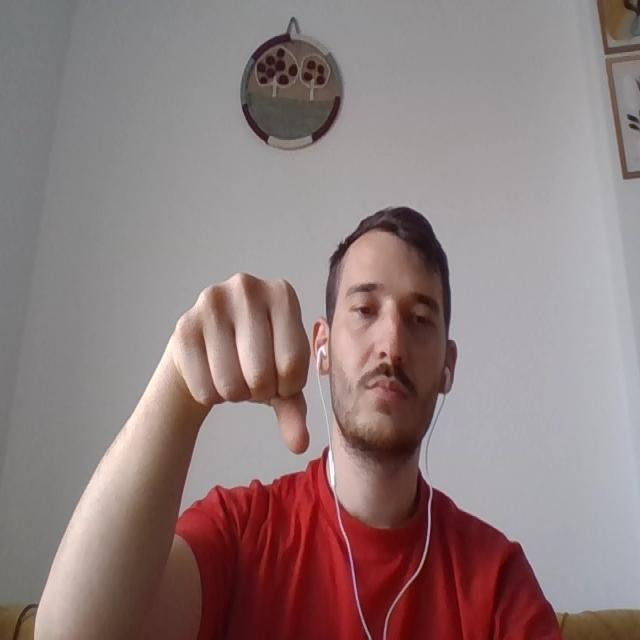yes: (181, 273, 311, 444)
